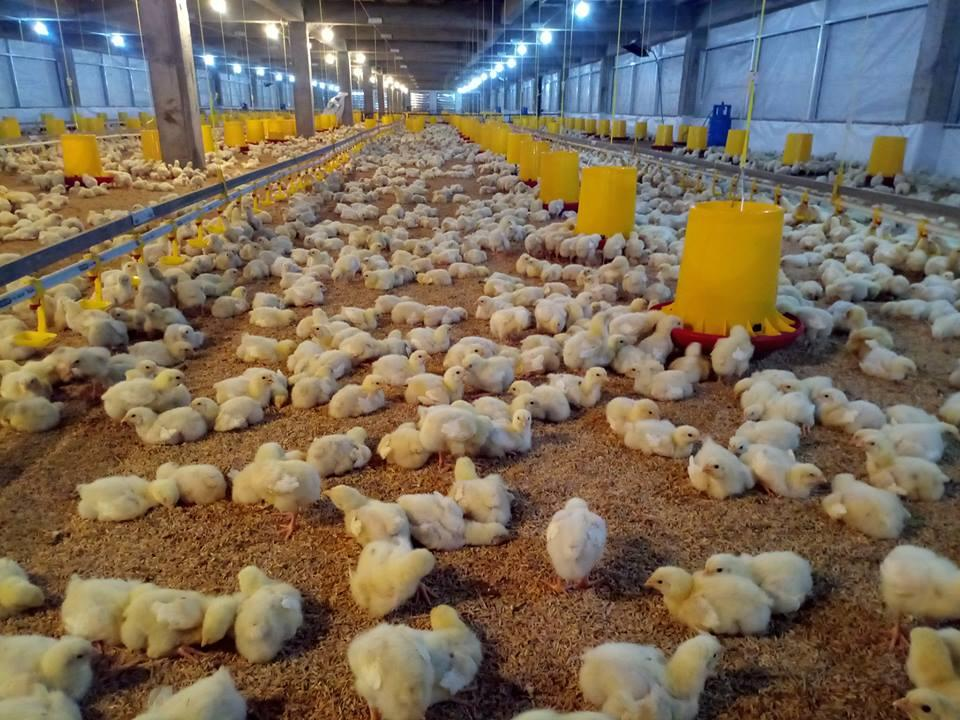chicken: (581, 638, 724, 720), (644, 567, 775, 631), (131, 584, 243, 657), (353, 624, 427, 720), (0, 636, 97, 709), (234, 563, 305, 659), (398, 491, 511, 551), (704, 547, 814, 604), (544, 496, 607, 589), (350, 545, 436, 613), (881, 546, 960, 620), (321, 484, 415, 546), (897, 628, 960, 720), (829, 469, 911, 539), (426, 603, 484, 701), (861, 436, 948, 496), (747, 441, 825, 503), (104, 364, 189, 419), (75, 479, 181, 523), (451, 460, 516, 516), (121, 404, 209, 443), (811, 384, 887, 429), (694, 440, 749, 499), (734, 377, 806, 422), (330, 373, 391, 421), (624, 419, 705, 454), (159, 461, 226, 503), (504, 377, 569, 420), (550, 364, 614, 404), (477, 412, 534, 451), (734, 421, 799, 450), (606, 397, 656, 433), (220, 367, 273, 397)
